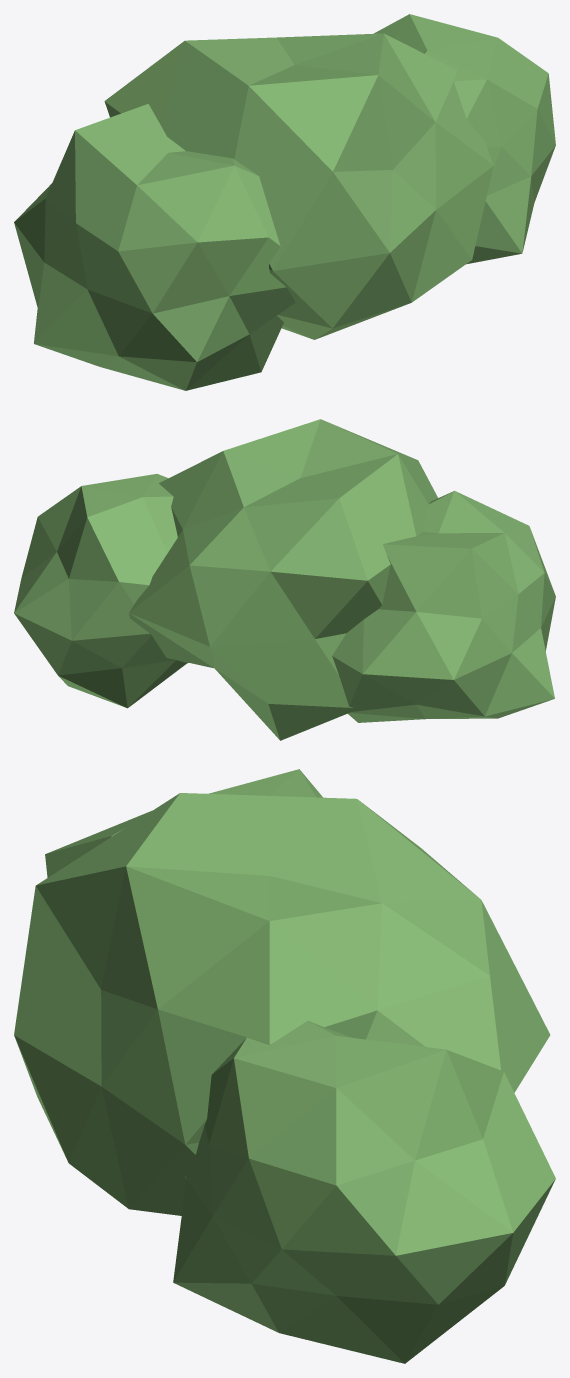
File: bush.glb
The picture shows the model from 3 angles, top to bottom: view 1: azimuth 30°, elevation 25°; view 2: azimuth 150°, elevation 25°; view 3: azimuth 270°, elevation 25°; orthographic projection. The views are drawn at different scales.
Parts seen in each view (by area): view 1: bush; view 2: bush; view 3: bush.
Boxes of the visible parts, <box> form: bush: <box>14,14,555,390</box>; bush: <box>14,419,555,740</box>; bush: <box>14,769,555,1363</box>.
Bounding box in the file's own units: 1.94 × 0.9624 × 1.22.
